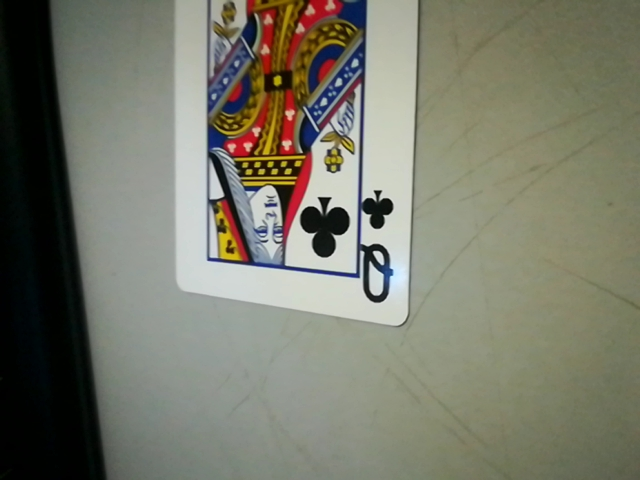mh q: (352, 185, 405, 316)
